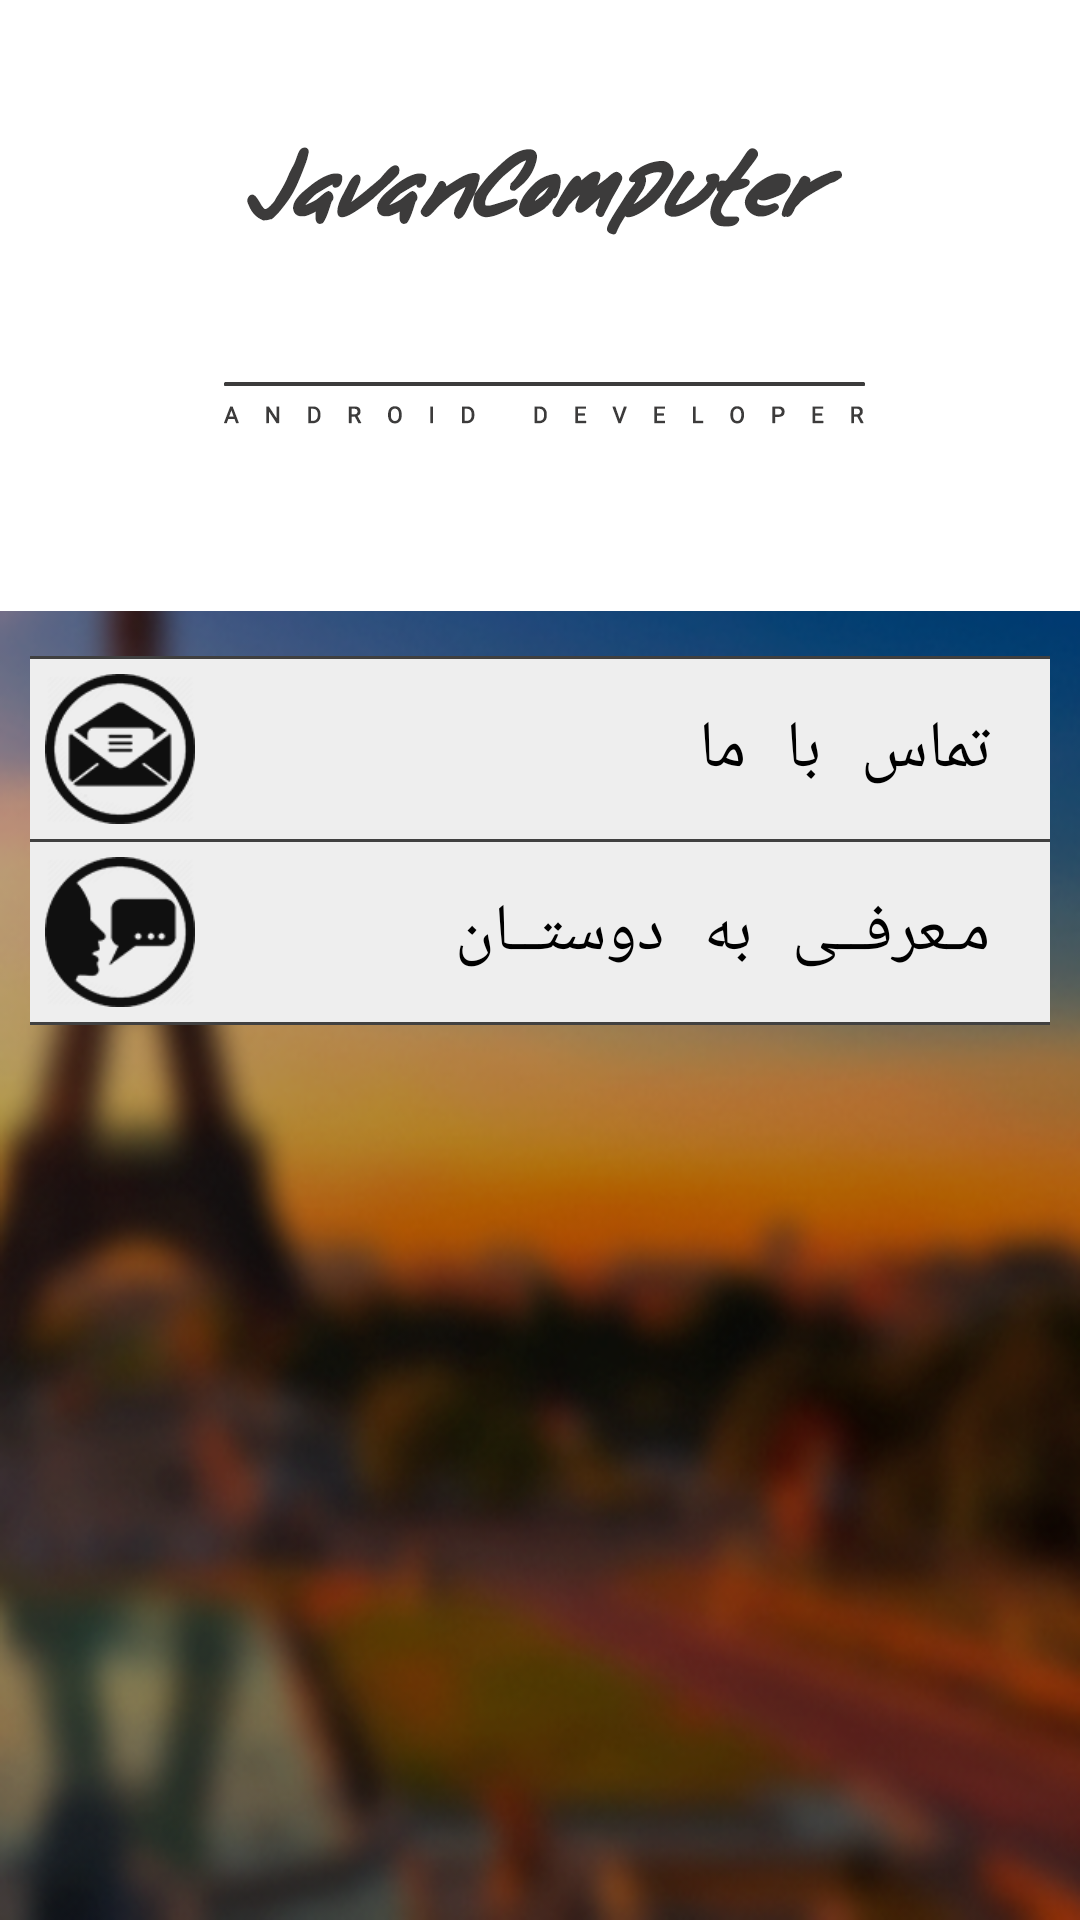

Icon bounding boxes for this 1080*1920 phone screenshot, format (x1, y1, x2, y2):
contact: (45, 857, 195, 1007)
mail: (45, 674, 195, 824)
